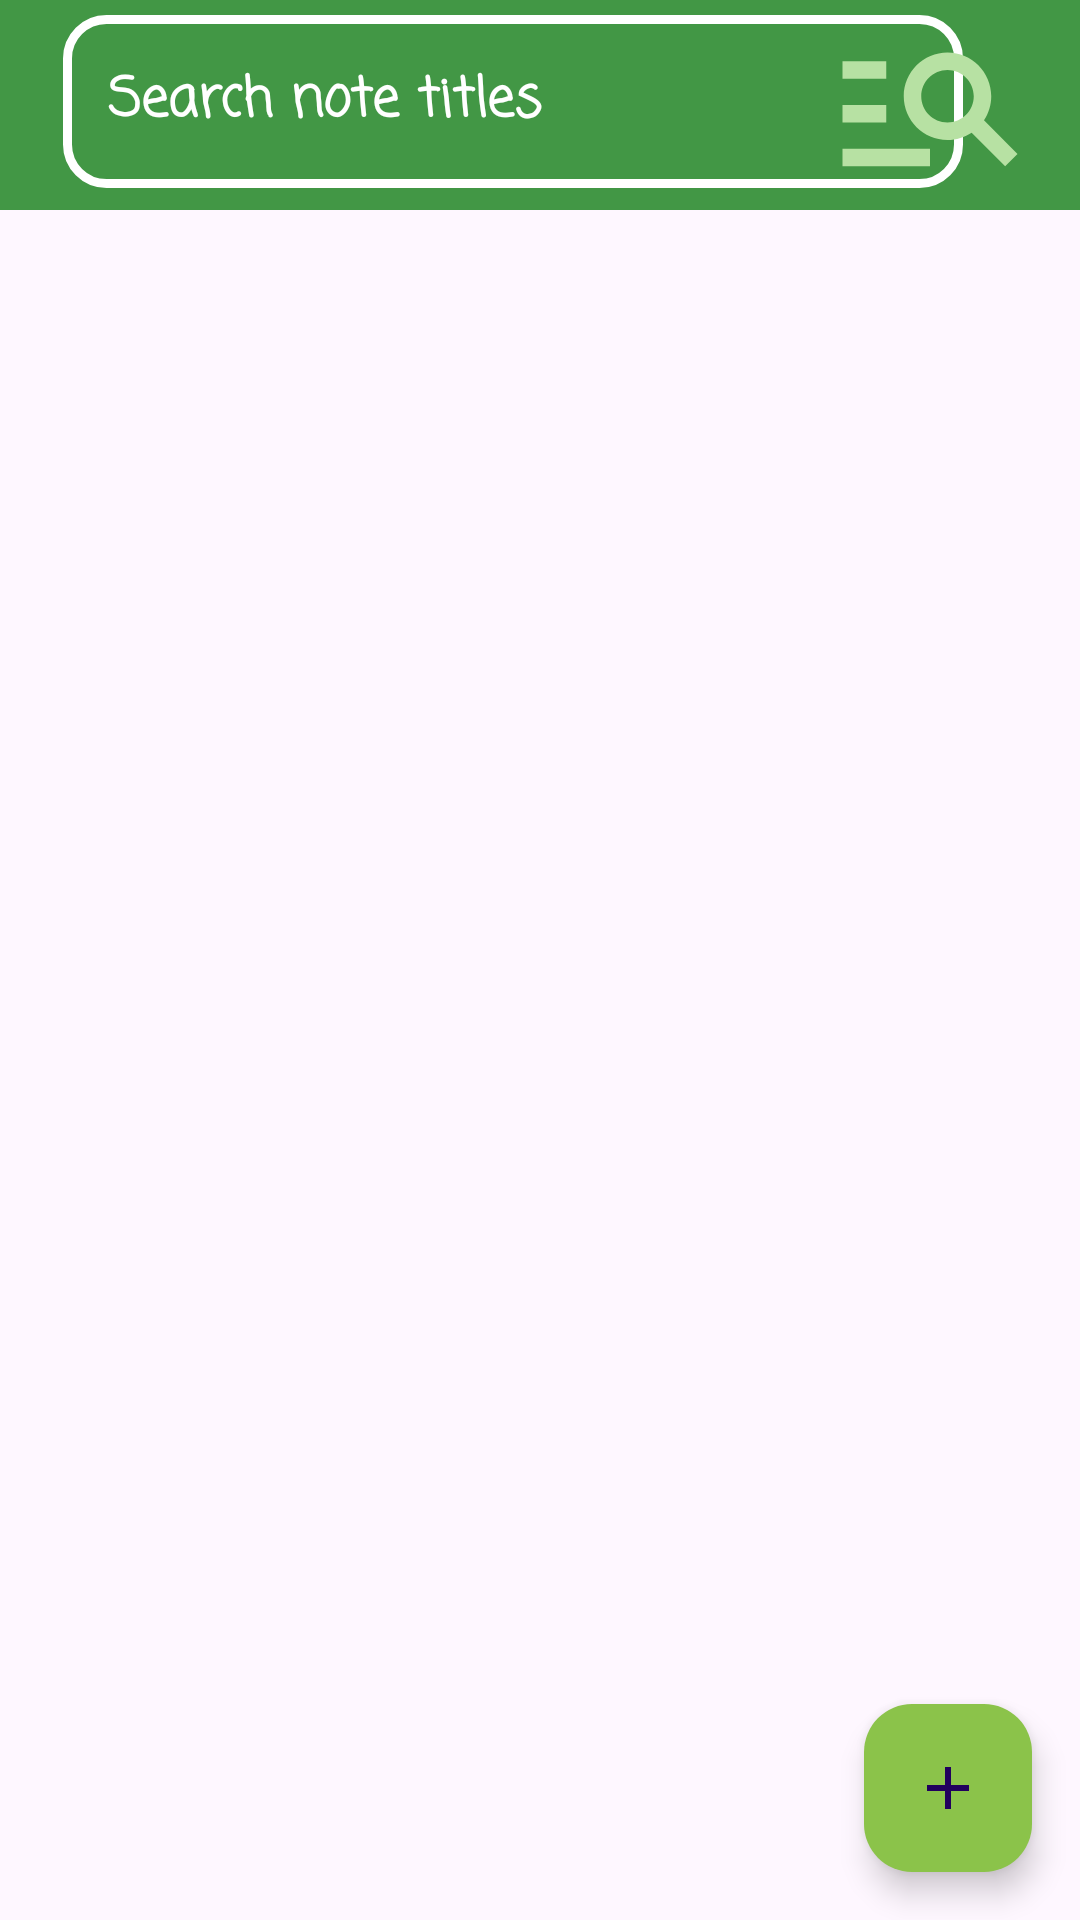

Where to tap for icons on this 1080w x 1920h app screen, as point (x, y):
Add New Note: point (948, 1788)
